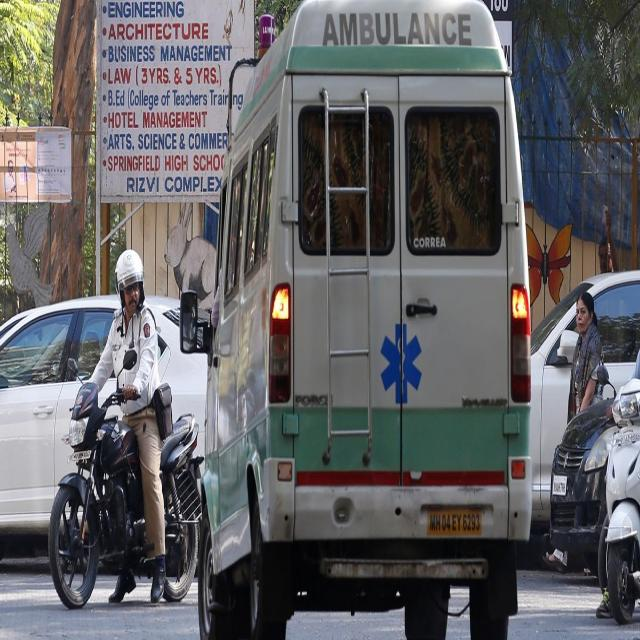emergency: (180, 2, 531, 638)
motorcycle: (49, 250, 202, 610)
